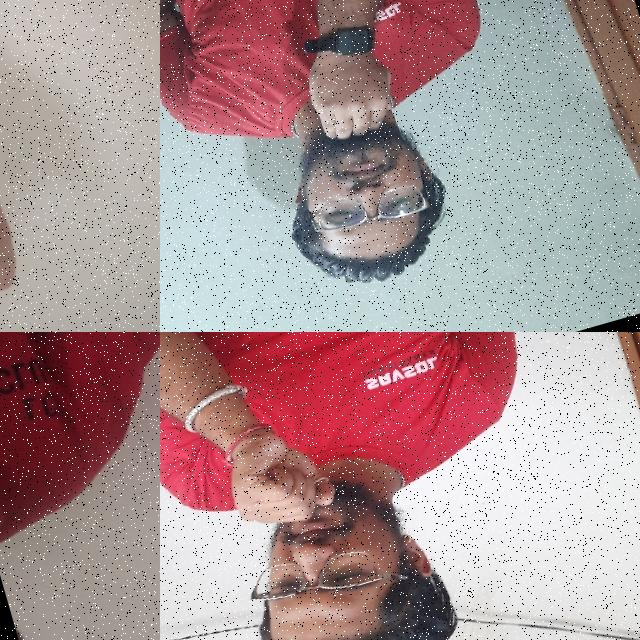Chin Flick: (250, 17, 465, 293)
Corna: (0, 25, 53, 332)
Fist Mouth: (188, 382, 447, 640)
